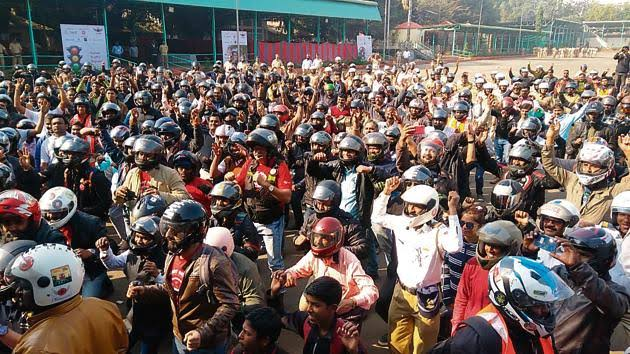helmet: (488, 257, 574, 337), (5, 244, 85, 310), (537, 199, 630, 230), (159, 200, 207, 254), (566, 226, 617, 276), (476, 220, 523, 270), (0, 240, 37, 301), (0, 135, 74, 162), (575, 142, 615, 186), (39, 187, 78, 229), (401, 185, 439, 228), (0, 189, 41, 227), (309, 217, 344, 257), (128, 216, 162, 256), (210, 181, 242, 219), (491, 179, 523, 216), (132, 135, 164, 171), (509, 139, 538, 178), (312, 180, 342, 217), (130, 194, 167, 223), (203, 227, 235, 257), (610, 191, 630, 236), (60, 138, 89, 167), (337, 134, 365, 164), (363, 132, 389, 162), (402, 165, 434, 188), (246, 128, 279, 150), (0, 111, 36, 130), (172, 150, 201, 173), (0, 109, 33, 129), (156, 122, 182, 147), (225, 132, 247, 159), (417, 137, 445, 158), (26, 63, 85, 72), (520, 117, 542, 139), (0, 127, 20, 151), (585, 101, 604, 125), (0, 163, 16, 191), (310, 131, 333, 149), (294, 123, 315, 142), (100, 102, 121, 121), (122, 135, 139, 157), (258, 114, 280, 131), (110, 125, 131, 142), (426, 130, 448, 146), (134, 90, 153, 108), (452, 101, 470, 119), (309, 111, 325, 131), (154, 116, 175, 131), (384, 125, 401, 142), (215, 124, 235, 138), (0, 132, 11, 154), (140, 119, 156, 134), (178, 100, 192, 117), (332, 132, 348, 146), (73, 95, 90, 108), (271, 104, 289, 116), (601, 95, 617, 107), (432, 108, 448, 120), (0, 93, 13, 107), (172, 89, 187, 101), (501, 97, 514, 110), (518, 99, 533, 110), (409, 99, 424, 110), (580, 90, 596, 100), (350, 99, 365, 109), (224, 107, 239, 117), (458, 89, 472, 99), (34, 77, 47, 86), (482, 82, 495, 90), (565, 81, 578, 89), (82, 62, 93, 71), (539, 81, 550, 90), (498, 79, 510, 87), (178, 80, 190, 88), (440, 86, 452, 94), (474, 77, 486, 84)
